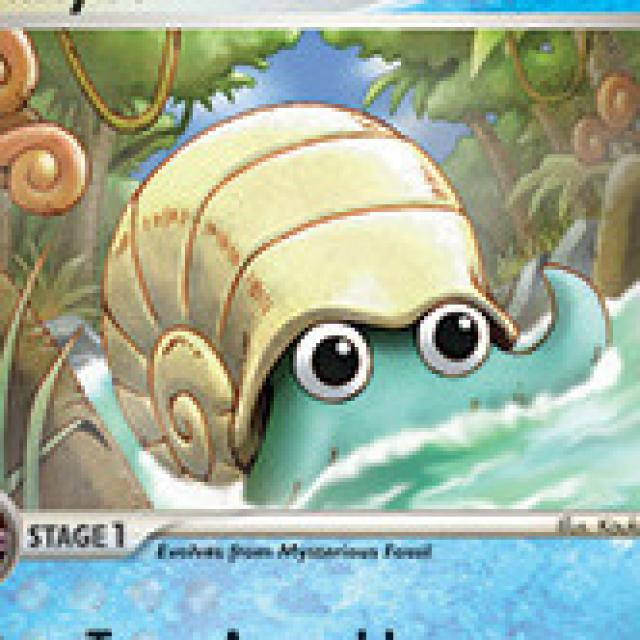Omanyte: (140, 141, 526, 415)
